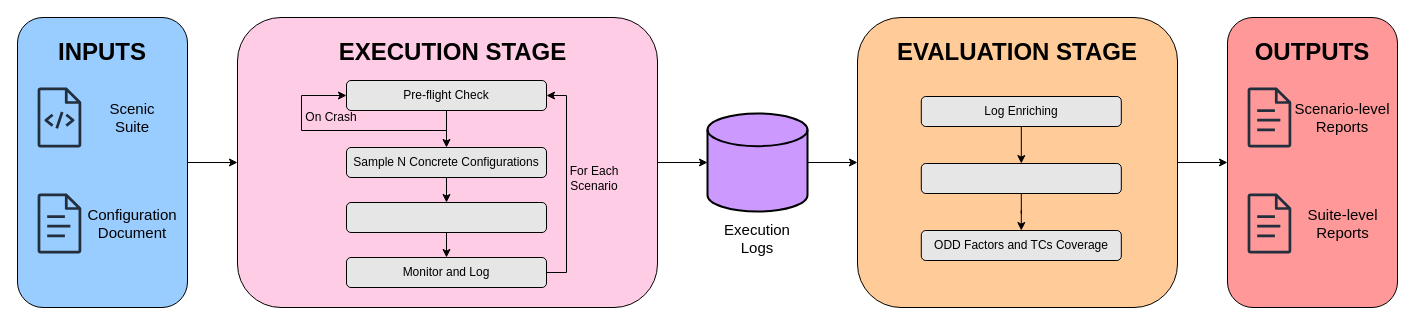
The diagram is 1415 pixels wide and 325 high, and some of its shapes have lost their labels. The centre of each missing label's shape, as x and y in pixels:
"Execute each on CARLA (Ego: Scenic or Autoware Agent)" belongs at point (446, 217).
"Known Hazardous Events Risks Assessment" belongs at point (1020, 178).
